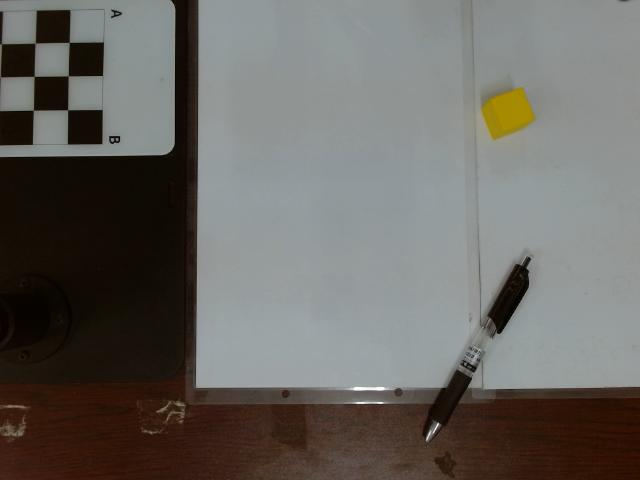PEN: (412, 251, 544, 445)
